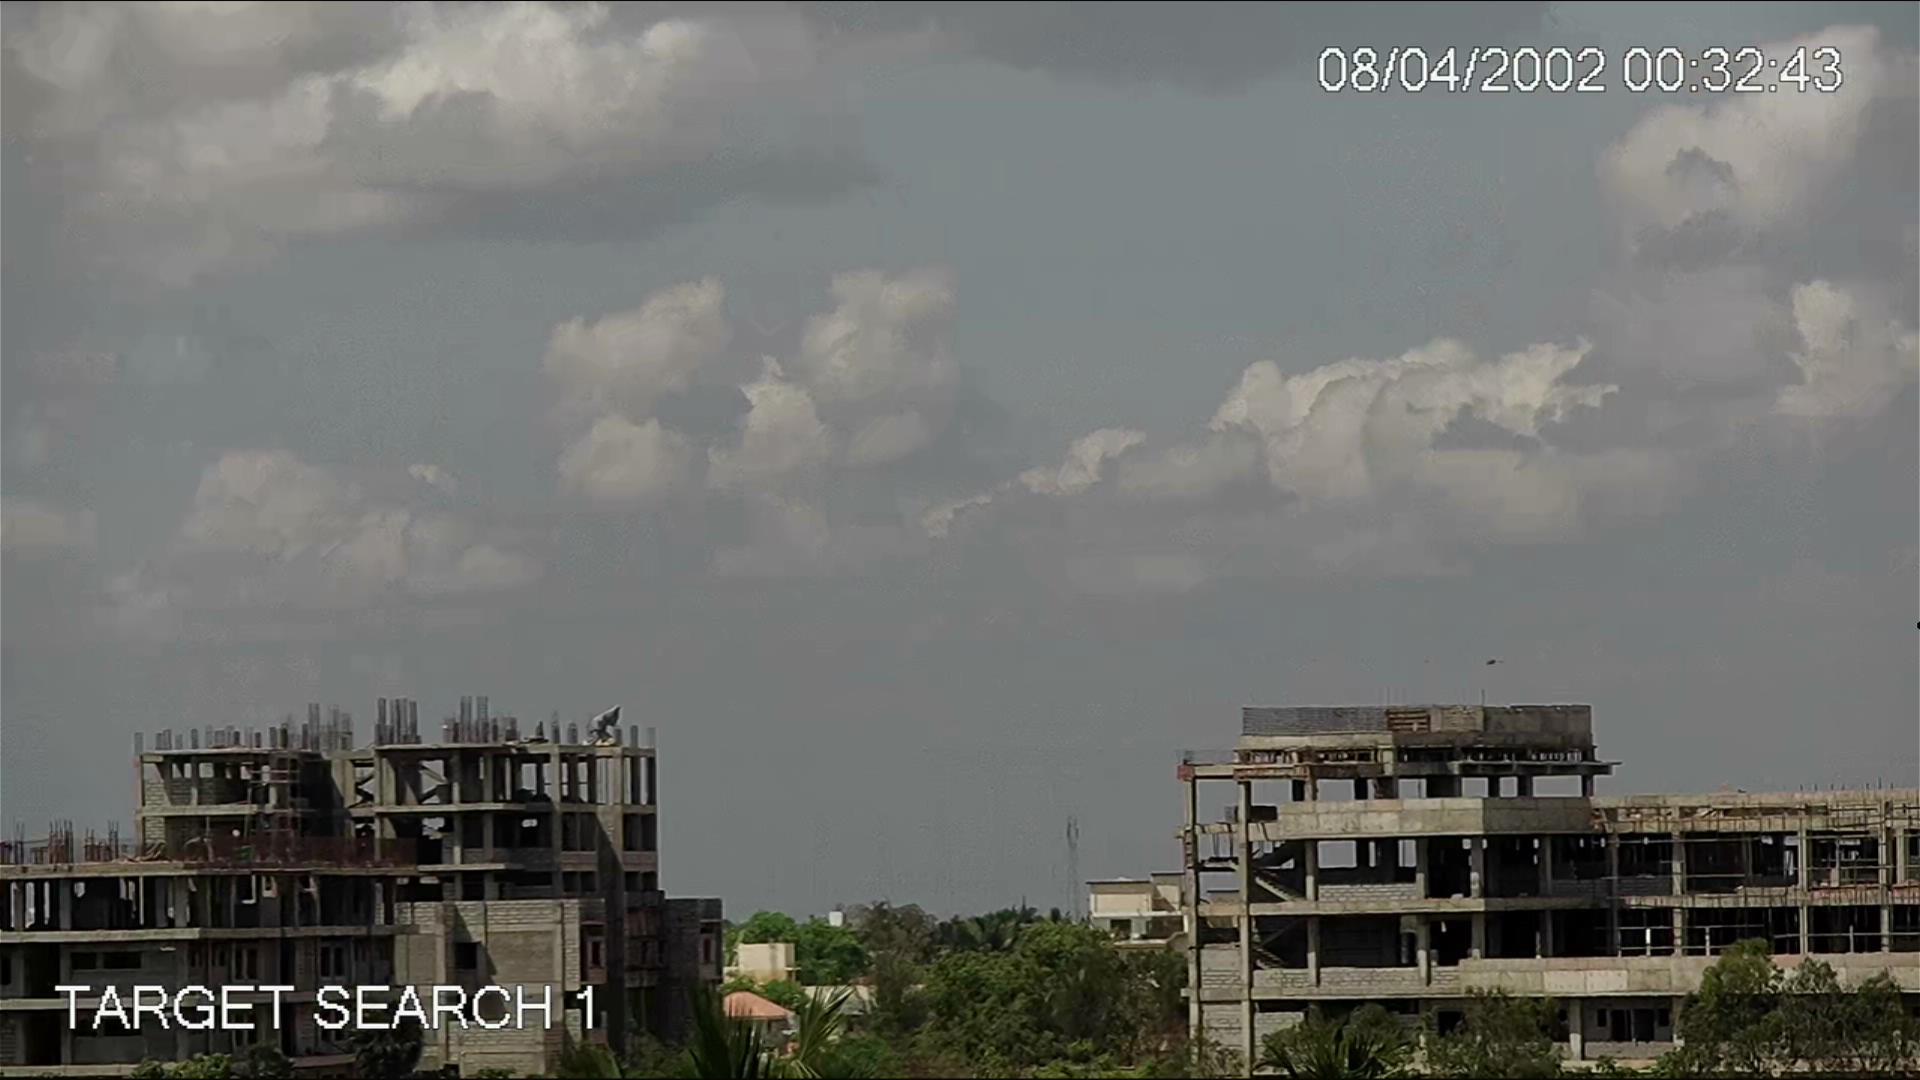SU_30: (1482, 653, 1513, 669)
